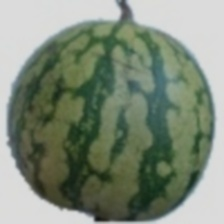watermelon: (40, 41, 221, 189)
